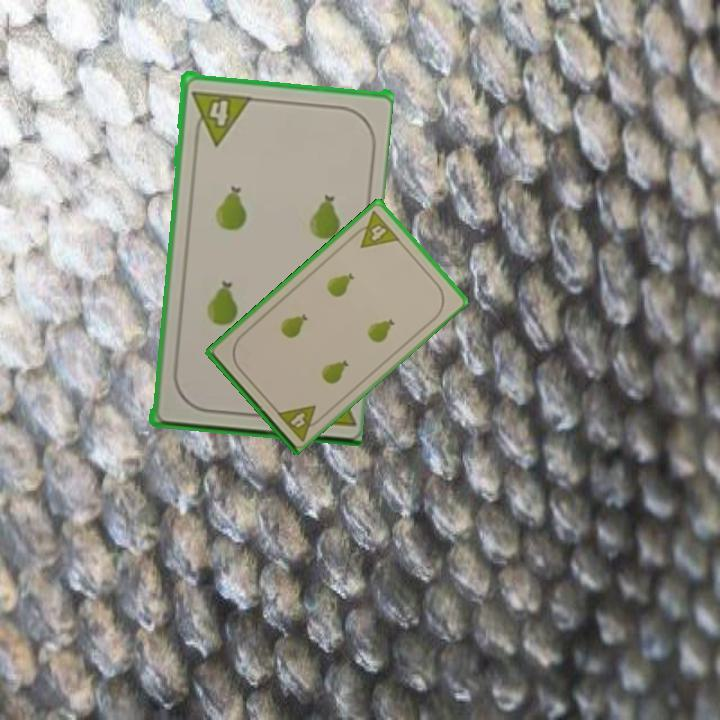4p: (187, 86, 252, 146), (348, 207, 403, 251), (273, 401, 327, 443)
